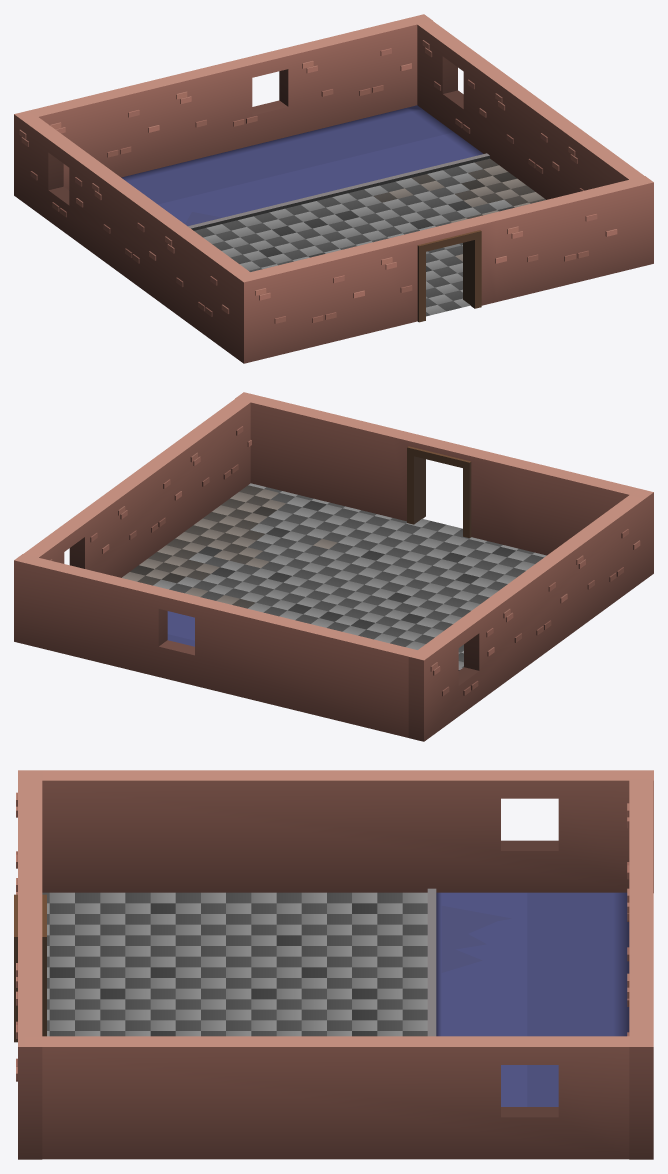
The model's file is building.fbx.
3 views of the same model, one above another, from view 1: azimuth 30°, elevation 25°; view 2: azimuth 150°, elevation 25°; view 3: azimuth 270°, elevation 25° (orthographic). The views are drawn at different scales.
Parts seen in each view (by area): view 1: ground, wall_1, wall 3, wall 4, wall 2; view 2: ground, wall 3, wall_1, wall 4, wall 2; view 3: ground, wall 2, wall 4, wall_1, wall 3.
Boxes of the visible parts, left/top/right/bottom form: ground: left=121, top=105, right=545, bottom=316; wall_1: left=235, top=176, right=653, bottom=363; wall 3: left=28, top=14, right=432, bottom=189; wall 4: left=14, top=110, right=255, bottom=361; wall 2: left=417, top=21, right=643, bottom=199; ground: left=122, top=483, right=546, bottom=670; wall 3: left=14, top=554, right=418, bottom=737; wall_1: left=235, top=392, right=653, bottom=579; wall 4: left=408, top=490, right=651, bottom=741; wall 2: left=23, top=394, right=256, bottom=577; ground: left=42, top=888, right=629, bottom=1106; wall 2: left=24, top=1036, right=629, bottom=1159; wall 4: left=24, top=770, right=653, bottom=892; wall_1: left=14, top=770, right=46, bottom=1159; wall 3: left=627, top=779, right=653, bottom=1159.
Size of the model in its own units: 2607 by 493 by 2540.
